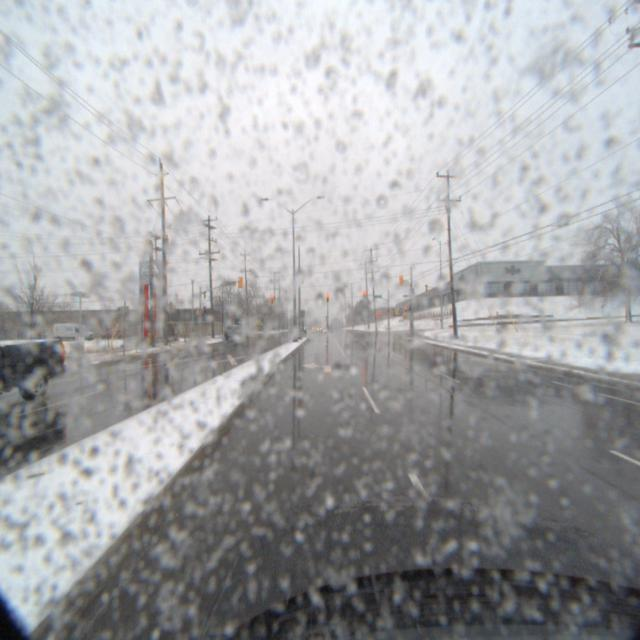Car: (58, 322, 104, 342)
